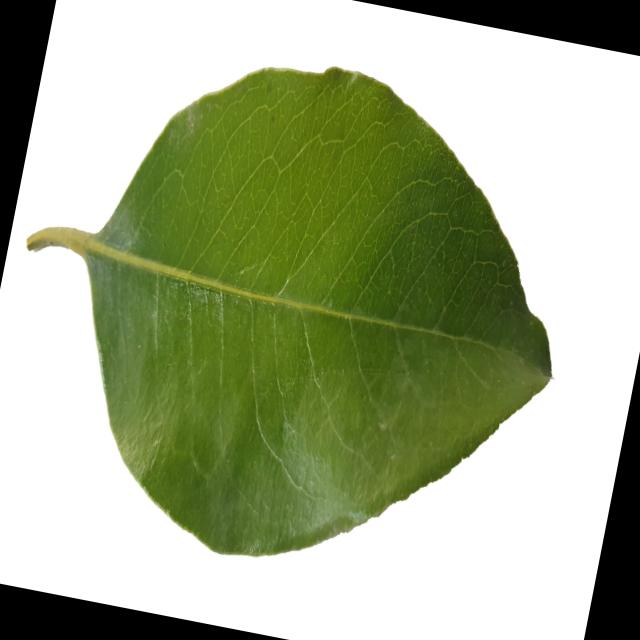Medicinal-Sandalwood: (0, 2, 605, 628)
